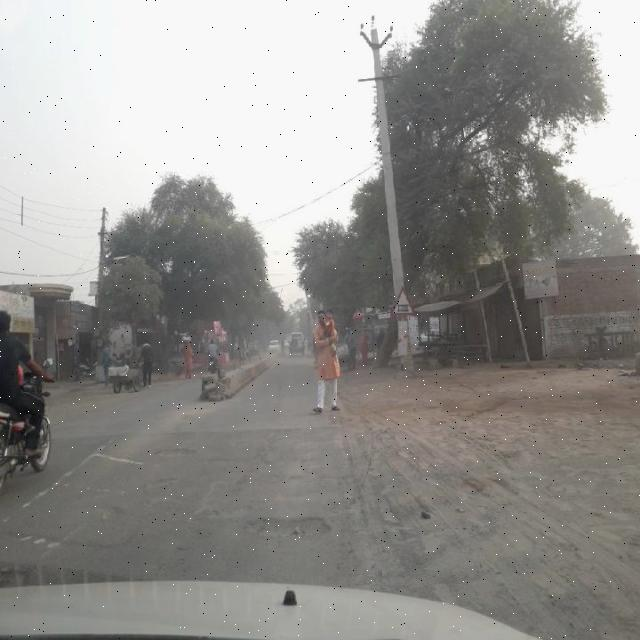D40: (238, 508, 339, 538), (150, 445, 198, 459)
